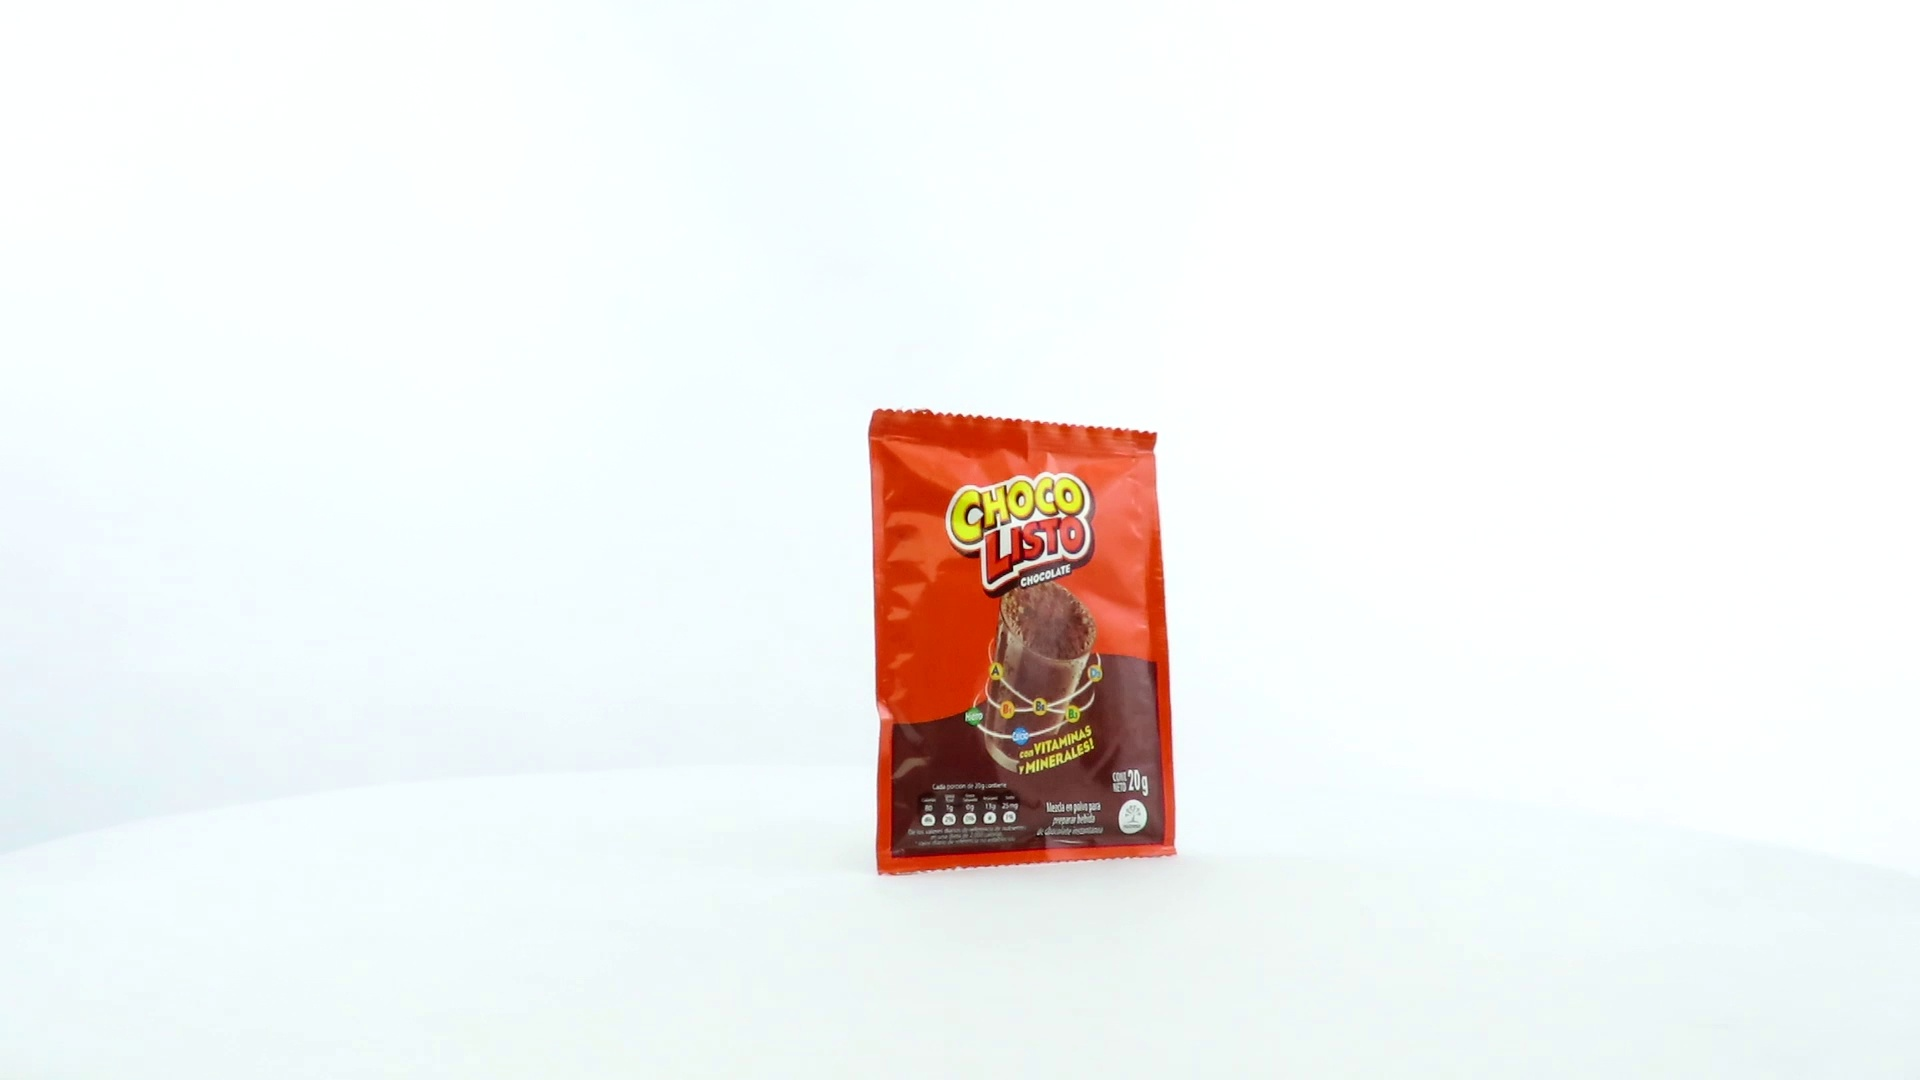COL0170103SOB02000: (862, 404, 1183, 882)
